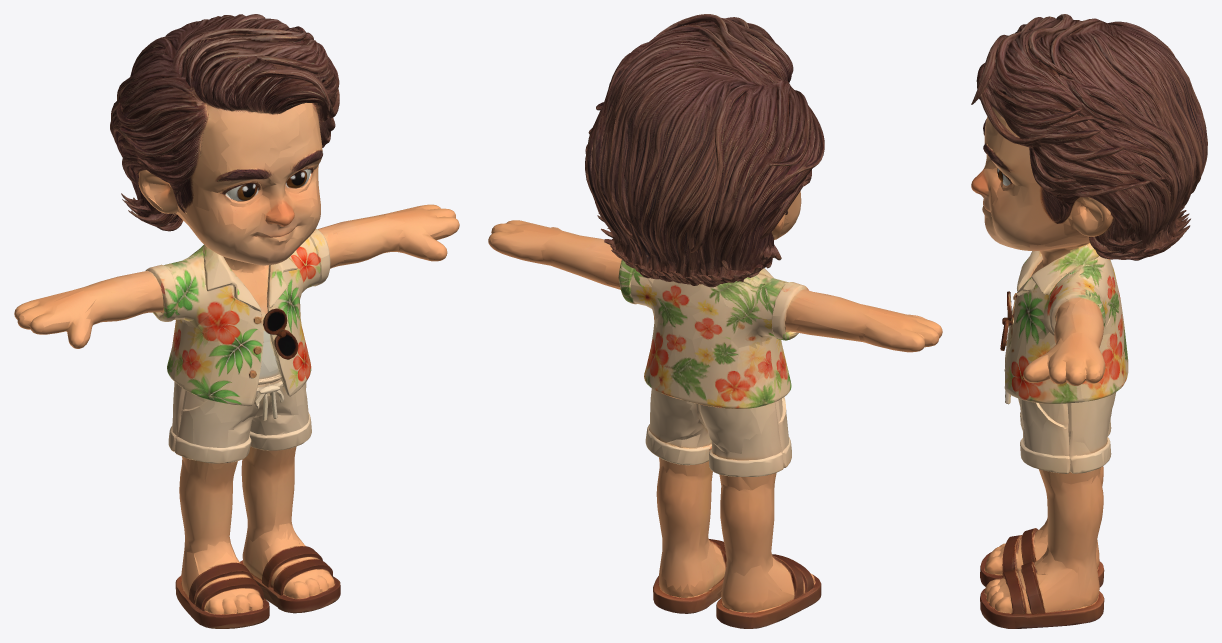
The model's file is jp_src.glb.
3 renders of one model, left to right at view 1: azimuth 30°, elevation 25°; view 2: azimuth 150°, elevation 25°; view 3: azimuth 270°, elevation 25°, orthographic. The views are drawn at different scales.
Parts seen in each view (by area): view 1: Mesh_0; view 2: Mesh_0; view 3: Mesh_0.
Part boxes in pixels (box(x1,y1,x2,y2)): Mesh_0: box(14, 14, 459, 628); Mesh_0: box(488, 14, 942, 628); Mesh_0: box(971, 14, 1207, 628).
Size of the model in its own units: 1.54 by 1.9 by 0.7099.
1 material, 1 textured.
